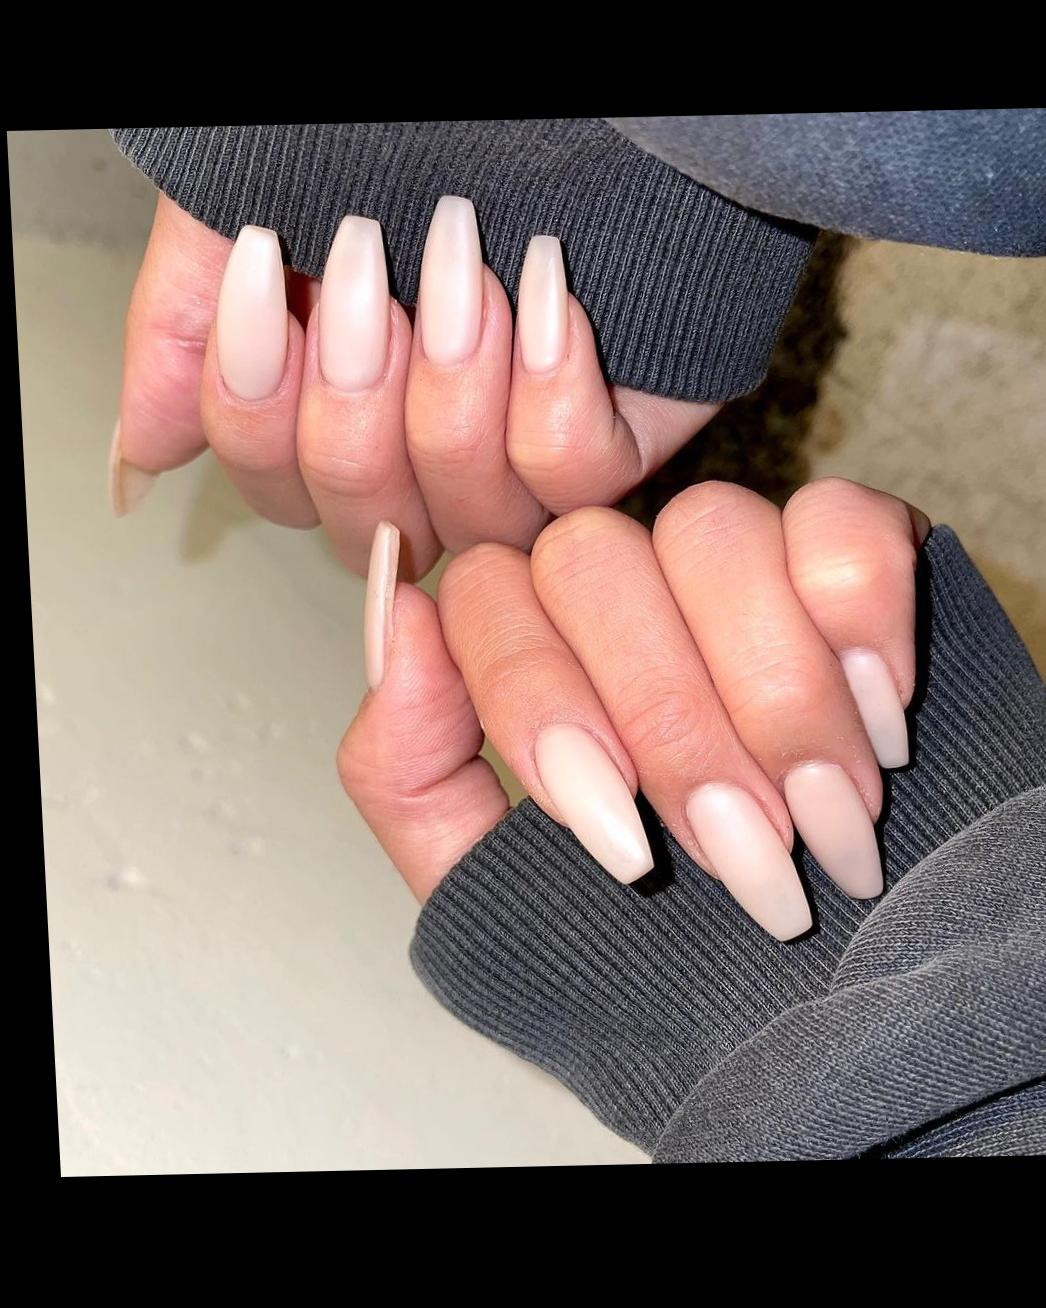nail: (681, 777, 815, 945), (528, 717, 656, 887), (308, 212, 394, 393), (779, 756, 885, 902), (207, 221, 292, 403), (409, 193, 489, 368), (354, 518, 409, 690), (837, 644, 911, 770), (509, 232, 573, 375)
